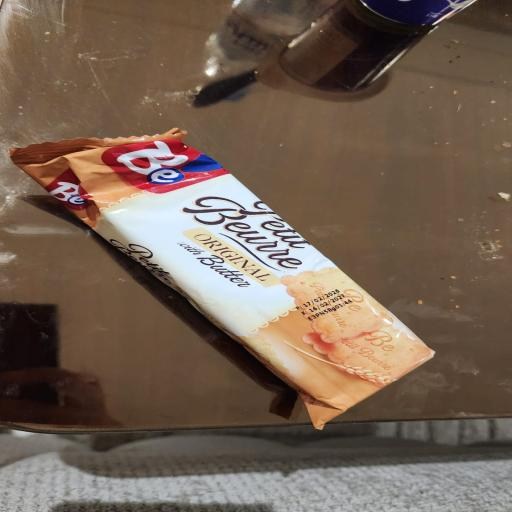petit-beurre: (6, 110, 451, 436)
